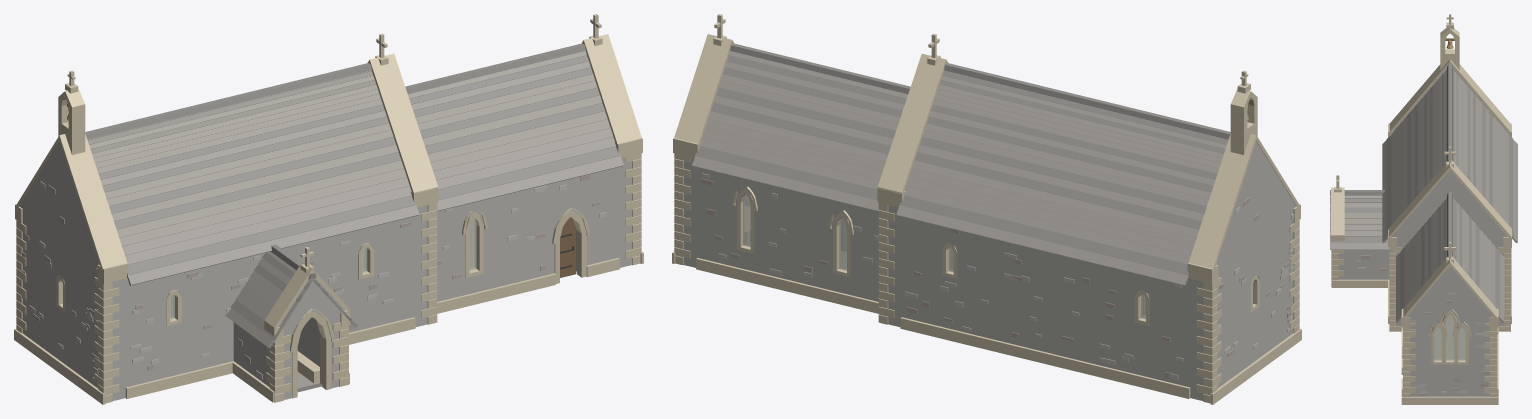
File: norman-e.glb
The picture shows the model from 3 angles, left to right: view 1: azimuth 30°, elevation 25°; view 2: azimuth 150°, elevation 25°; view 3: azimuth 270°, elevation 25°; orthographic projection. The views are drawn at different scales.
Visible parts, largest first — view 1: rubble (×9), roof (×6), dress (×8), roof2 (×6), oak; view 2: rubble (×8), roof (×5), dress (×8), roof2 (×5); view 3: roof (×6), dress (×5), rubble (×4), roof2 (×6), glass, floor, rubble2.
Part boxes in pixels (bbox=[...]): rubble (×9): bbox=[20, 142, 631, 400]; roof (×6): bbox=[88, 51, 623, 347]; dress (×8): bbox=[14, 14, 643, 404]; roof2 (×6): bbox=[85, 43, 620, 339]; oak: bbox=[560, 217, 575, 277]; rubble (×8): bbox=[684, 142, 1295, 400]; roof (×5): bbox=[692, 51, 1227, 285]; dress (×8): bbox=[672, 14, 1301, 404]; roof2 (×5): bbox=[695, 43, 1230, 275]; roof (×6): bbox=[1330, 71, 1517, 322]; dress (×5): bbox=[1331, 14, 1511, 404]; rubble (×4): bbox=[1338, 68, 1509, 396]; roof2 (×6): bbox=[1330, 64, 1513, 316]; glass: bbox=[1434, 315, 1465, 360]; floor: bbox=[1434, 331, 1465, 358]; rubble2: bbox=[1410, 292, 1484, 393].
Size of the model in its own units: 22.9 by 11.98 by 9.7.
